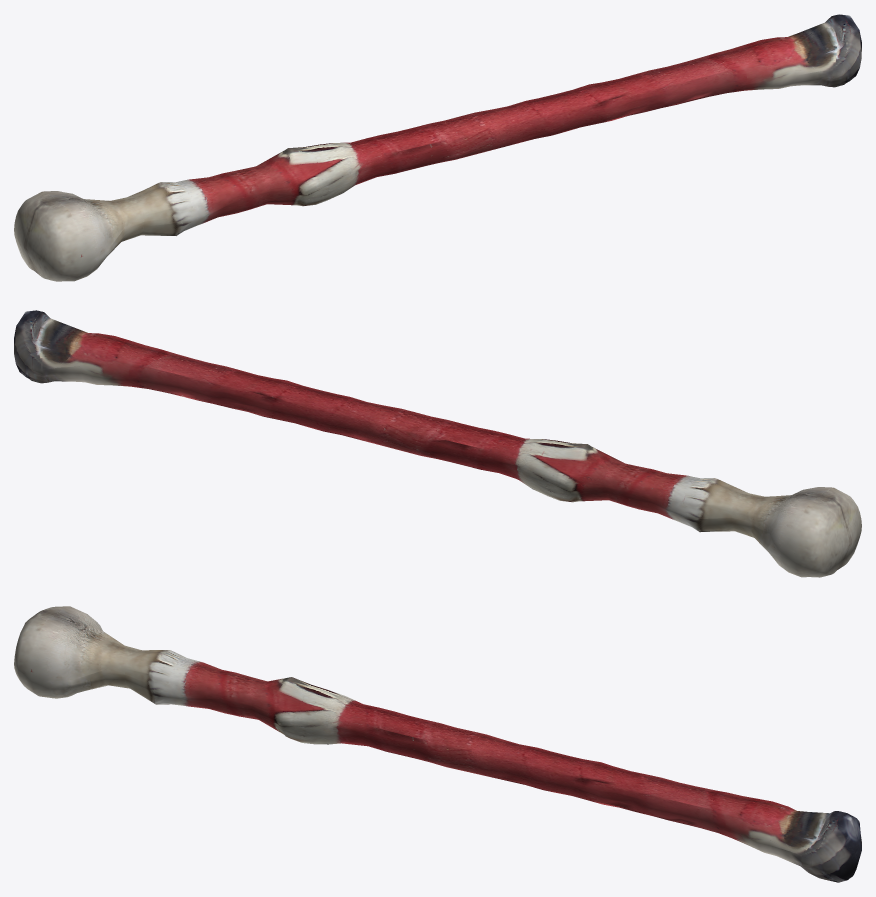
Rendered from RedWhiteClubMIRRORED.fbx.
3 views of the same model, one above another, from view 1: azimuth 30°, elevation 25°; view 2: azimuth 150°, elevation 25°; view 3: azimuth 330°, elevation 25° (orthographic).
Parts seen in each view (by area): view 1: Cylinder; view 2: Cylinder; view 3: Cylinder.
Boxes of the visible parts, x1,y1,x2,y2 form: Cylinder: (14,14,861,281); Cylinder: (14,310,861,577); Cylinder: (14,606,861,882).
Size of the model in its own units: 490 by 42.33 by 50.9.
Materials: 1 (1 with a texture image).
